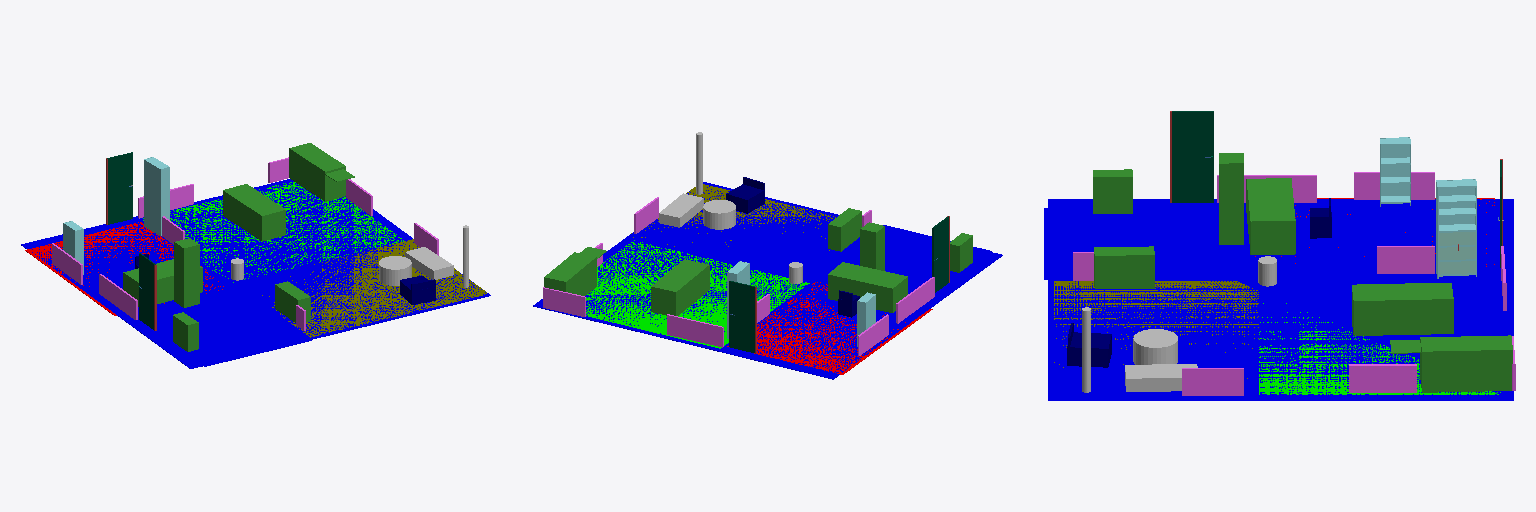
--- What the picture shows (computed from the rendered views, not written in the file) ---
3 views of the same robot in one strip: view 1: azimuth 30°, elevation 25°; view 2: azimuth 150°, elevation 25°; view 3: azimuth 270°, elevation 25° (orthographic).
Model iai-kitchen with 110 links and 109 joints (7 revolute, 102 fixed), rooted at urdf_main, posed all joints at 0.
Links seen in each view (by area): view 1: arena:arena:room_center_link, living_room:living_room:room_center_link, iai_kitchen:kitchen:room_center_link, dinner_table:dinner_table:table_center, kitchen_counter:kitchen_counter:table_center, coathanger:coathanger:coathanger_center, office:arena:door_center, office:office:room_center_link, desk:desk:table_center, shelf_hohc:kitchen_cabinet:shelf_back, iai_kitchen:arena:door_center, tv_table:tv_table:table_center (+9 smaller); view 2: arena:arena:room_center_link, iai_kitchen:kitchen:room_center_link, office:office:room_center_link, desk:desk:table_center, dinner_table:dinner_table:table_center, office:arena:door_center, kitchen_counter:kitchen_counter:table_center, wall_8_link, coathanger:coathanger:coathanger_center, tv_table:tv_table:table_center, iai_kitchen:arena:door_center, living_room:living_room:room_center_link (+9 smaller); view 3: arena:arena:room_center_link, dinner_table:dinner_table:table_center, kitchen_counter:kitchen_counter:table_center, iai_kitchen:arena:door_center, desk:desk:table_center, living_room:living_room:room_center_link, iai_kitchen:kitchen:room_center_link, tv_table:tv_table:table_center, coathanger:coathanger:coathanger_center, wall_2_link, hallway_cabinet:hallway_cabinet:table_center, wall_5_link (+15 smaller).
Link boxes in pixels (x1=…): arena:arena:room_center_link: x1=21, y1=179, x2=490, y2=368; living_room:living_room:room_center_link: x1=262, y1=239, x2=486, y2=337; iai_kitchen:kitchen:room_center_link: x1=143, y1=182, x2=403, y2=282; dinner_table:dinner_table:table_center: x1=223, y1=184, x2=285, y2=241; kitchen_counter:kitchen_counter:table_center: x1=289, y1=143, x2=345, y2=201; coathanger:coathanger:coathanger_center: x1=174, y1=238, x2=199, y2=307; office:arena:door_center: x1=107, y1=152, x2=132, y2=224; office:office:room_center_link: x1=25, y1=222, x2=223, y2=315; desk:desk:table_center: x1=123, y1=259, x2=202, y2=306; shelf_hohc:kitchen_cabinet:shelf_back: x1=144, y1=159, x2=160, y2=235; iai_kitchen:arena:door_center: x1=139, y1=253, x2=155, y2=329; tv_table:tv_table:table_center: x1=275, y1=281, x2=310, y2=322; arena:arena:room_center_link: x1=533, y1=182, x2=1002, y2=379; iai_kitchen:kitchen:room_center_link: x1=586, y1=240, x2=809, y2=348; office:office:room_center_link: x1=727, y1=282, x2=932, y2=374; desk:desk:table_center: x1=828, y1=262, x2=907, y2=312; dinner_table:dinner_table:table_center: x1=651, y1=259, x2=709, y2=315; office:arena:door_center: x1=729, y1=281, x2=754, y2=352; kitchen_counter:kitchen_counter:table_center: x1=544, y1=252, x2=596, y2=295; wall_8_link: x1=667, y1=314, x2=723, y2=347; coathanger:coathanger:coathanger_center: x1=860, y1=222, x2=884, y2=270; tv_table:tv_table:table_center: x1=828, y1=208, x2=861, y2=251; iai_kitchen:arena:door_center: x1=932, y1=216, x2=948, y2=292; living_room:living_room:room_center_link: x1=631, y1=184, x2=835, y2=250; arena:arena:room_center_link: x1=1048, y1=199, x2=1513, y2=400; dinner_table:dinner_table:table_center: x1=1352, y1=283, x2=1453, y2=335; kitchen_counter:kitchen_counter:table_center: x1=1420, y1=335, x2=1512, y2=392; iai_kitchen:arena:door_center: x1=1172, y1=111, x2=1213, y2=202; desk:desk:table_center: x1=1246, y1=178, x2=1295, y2=254; living_room:living_room:room_center_link: x1=1054, y1=281, x2=1258, y2=378; iai_kitchen:kitchen:room_center_link: x1=1259, y1=303, x2=1500, y2=394; tv_table:tv_table:table_center: x1=1094, y1=246, x2=1154, y2=288; coathanger:coathanger:coathanger_center: x1=1219, y1=153, x2=1243, y2=244; wall_2_link: x1=1349, y1=364, x2=1416, y2=392; hallway_cabinet:hallway_cabinet:table_center: x1=1093, y1=169, x2=1132, y2=213; wall_5_link: x1=1182, y1=368, x2=1243, y2=395.
Size in the robot's own frame: 9.59 by 9.4 by 2.1 metres.
Meshes: 3 distinct files referenced, 0 mesh visuals loaded (none loaded); not drawn: 3 (reference not matched to a file when rendering).

The robot description file, URDF, robot "iai-kitchen":
<?xml version="1.0" ?>
<robot name="iai-kitchen" version="1.0">
  <material name="table_grey">
    <color rgba="0.255 0.62 0.223 1.0"/>
  </material>
  <material name="round_table_grey">
    <color rgba="0.8 0.8 0.8 1.0"/>
  </material>
  <material name="wall_pink">
    <color rgba="0.95 0.43 0.96 1.0"/>
  </material>
  <material name="shelf_blue">
    <color rgba="0.59 0.88 0.9 1.0"/>
  </material>
  <material name="shelf_door_green">
    <color rgba="0.64 0.87 0.82 1.0"/>
  </material>
  <material name="shelf_openable_handle_red">
    <color rgba="0.74 0.25 0.25 1.0"/>
  </material>
  <material name="shelf_hohc_handle_red">
    <color rgba="0.74 0.25 0.25 1.0"/>
  </material>
  <material name="door_green">
    <color rgba="0.0 0.31 0.22 1.0"/>
  </material>
  <material name="hinge_red">
    <color rgba="0.74 0.25 0.25 1.0"/>
  </material>
  <material name="handle_blue">
    <color rgba="0.3 0.5 0.78 1.0"/>
  </material>
  <material name="bucket_grey">
    <color rgba="0.8 0.8 0.8 1.0"/>
  </material>
  <material name="white">
    <color rgba="1.0 1.0 1.0 1.0"/>
  </material>
  <material name="orange">
    <color rgba="1.0 0.7 0.0 1.0"/>
  </material>
  <material name="handle_white">
    <color rgba="1.0 1.0 1.0 1.0"/>
  </material>
  <material name="bottom_white">
    <color rgba="1.0 1.0 1.0 1.0"/>
  </material>
  <material name="frame_wood">
    <color rgba="0.68 0.63 0.47 1.0"/>
  </material>
  <material name="handle_grey">
    <color rgba="0.7 0.7 0.7 1.0"/>
  </material>
  <material name="dishwasher_table_color">
    <color rgba="0.255 0.62 0.223 1.0"/>
  </material>
  <material name="dishwasher_robocup_table_color">
    <color rgba="0.255 0.62 0.223 1.0"/>
  </material>
  <material name="color_grey">
    <color rgba="0.8 0.8 0.8 1.0"/>
  </material>
  <material name="color_red">
    <color rgba="1.0 0.0 0.0 1.0"/>
  </material>
  <material name="color_blue">
    <color rgba="0.0 0.0 1.0 1.0"/>
  </material>
  <material name="simple_couch_color_grey">
    <color rgba="0.8 0.8 0.8 1.0"/>
  </material>
  <material name="simple_couch_color_red">
    <color rgba="1.0 0.0 0.0 1.0"/>
  </material>
  <material name="simple_couch_color_blue">
    <color rgba="0.0 0.0 1.0 1.0"/>
  </material>
  <material name="trashcan_color">
    <color rgba="0.8 0.8 0.8 1.0"/>
  </material>
  <material name="chair_color">
    <color rgba="0.0 0.0 0.5 1.0"/>
  </material>
  <material name="coathanger_color">
    <color rgba="0.255 0.62 0.223 1.0"/>
  </material>
  <material name="lamp_color">
    <color rgba="0.8 0.8 0.8 1.0"/>
  </material>
  <link name="tv_table:tv_table:table_center">
    <inertial>
      <origin xyz="0.0 0.0 0.0" rpy="0.0 0.0 0.0"/>
      <mass value="1.0"/>
      <inertia ixx="0.1" ixy="0.0" ixz="0.0" iyy="0.1" iyz="0.0" izz="0.1"/>
    </inertial>
    <visual>
      <origin xyz="0.0 0.0 -0.369" rpy="0.0 0.0 0.0"/>
      <geometry>
        <box size="0.412 1.2 0.738"/>
      </geometry>
      <material name="table_grey"/>
    </visual>
    <collision>
      <origin xyz="0.0 0.0 -0.369" rpy="0.0 0.0 0.0"/>
      <geometry>
        <box size="0.412 1.2 0.738"/>
      </geometry>
    </collision>
  </link>
  <link name="tv_table:tv_table:table_origin"/>
  <link name="tv_table:tv_table:table_front_edge_center"/>
  <joint name="tv_table:tv_table:table_origin_joint" type="fixed">
    <origin xyz="5.96 -0.24 0.0" rpy="0.0 0.0 3.17"/>
    <parent link="urdf_offset"/>
    <child link="tv_table:tv_table:table_origin"/>
  </joint>
  <joint name="tv_table:tv_table:center_joint" type="fixed">
    <origin xyz="0.206 0.6 0.738" rpy="0.0 0.0 0.0"/>
    <parent link="tv_table:tv_table:table_origin"/>
    <child link="tv_table:tv_table:table_center"/>
  </joint>
  <joint name="tv_table:tv_table:table_front_edge_center_joint" type="fixed">
    <origin xyz="0.0 0.6 0.738" rpy="0.0 0.0 0.0"/>
    <parent link="tv_table:tv_table:table_origin"/>
    <child link="tv_table:tv_table:table_front_edge_center"/>
  </joint>
  <link name="hallway_cabinet:hallway_cabinet:table_center">
    <inertial>
      <origin xyz="0.0 0.0 0.0" rpy="0.0 0.0 0.0"/>
      <mass value="1.0"/>
      <inertia ixx="0.1" ixy="0.0" ixz="0.0" iyy="0.1" iyz="0.0" izz="0.1"/>
    </inertial>
    <visual>
      <origin xyz="0.0 0.0 -0.404" rpy="0.0 0.0 0.0"/>
      <geometry>
        <box size="0.3503 0.795 0.808"/>
      </geometry>
      <material name="table_grey"/>
    </visual>
    <collision>
      <origin xyz="0.0 0.0 -0.404" rpy="0.0 0.0 0.0"/>
      <geometry>
        <box size="0.3503 0.795 0.808"/>
      </geometry>
    </collision>
  </link>
  <link name="hallway_cabinet:hallway_cabinet:table_origin"/>
  <link name="hallway_cabinet:hallway_cabinet:table_front_edge_center"/>
  <joint name="hallway_cabinet:hallway_cabinet:table_origin_joint" type="fixed">
    <origin xyz="2.41 -0.675 0.0" rpy="0.0 0.0 3.17"/>
    <parent link="urdf_offset"/>
    <child link="hallway_cabinet:hallway_cabinet:table_origin"/>
  </joint>
  <joint name="hallway_cabinet:hallway_cabinet:center_joint" type="fixed">
    <origin xyz="0.17515 0.3975 0.808" rpy="0.0 0.0 0.0"/>
    <parent link="hallway_cabinet:hallway_cabinet:table_origin"/>
    <child link="hallway_cabinet:hallway_cabinet:table_center"/>
  </joint>
  <joint name="hallway_cabinet:hallway_cabinet:table_front_edge_center_joint" type="fixed">
    <origin xyz="0.0 0.3975 0.808" rpy="0.0 0.0 0.0"/>
    <parent link="hallway_cabinet:hallway_cabinet:table_origin"/>
    <child link="hallway_cabinet:hallway_cabinet:table_front_edge_center"/>
  </joint>
  <link name="desk:desk:table_center">
    <inertial>
      <origin xyz="0.0 0.0 0.0" rpy="0.0 0.0 0.0"/>
      <mass value="1.0"/>
      <inertia ixx="0.1" ixy="0.0" ixz="0.0" iyy="0.1" iyz="0.0" izz="0.1"/>
    </inertial>
    <visual>
      <origin xyz="0.0 0.0 -0.3715" rpy="0.0 0.0 0.0"/>
      <geometry>
        <box size="0.901 2.017 0.743"/>
      </geometry>
      <material name="table_grey"/>
    </visual>
    <collision>
      <origin xyz="0.0 0.0 -0.3715" rpy="0.0 0.0 0.0"/>
      <geometry>
        <box size="0.901 2.017 0.743"/>
      </geometry>
    </collision>
  </link>
  <link name="desk:desk:table_origin"/>
  <link name="desk:desk:table_front_edge_center"/>
  <joint name="desk:desk:table_origin_joint" type="fixed">
    <origin xyz="2.33 2.49 0.0" rpy="0.0 0.0 -1.53"/>
    <parent link="urdf_offset"/>
    <child link="desk:desk:table_origin"/>
  </joint>
  <joint name="desk:desk:center_joint" type="fixed">
    <origin xyz="0.4505 1.0085 0.743" rpy="0.0 0.0 0.0"/>
    <parent link="desk:desk:table_origin"/>
    <child link="desk:desk:table_center"/>
  </joint>
  <joint name="desk:desk:table_front_edge_center_joint" type="fixed">
    <origin xyz="0.0 1.0085 0.743" rpy="0.0 0.0 0.0"/>
    <parent link="desk:desk:table_origin"/>
    <child link="desk:desk:table_front_edge_center"/>
  </joint>
  <link name="dinner_table:dinner_table:table_center">
    <inertial>
      <origin xyz="0.0 0.0 0.0" rpy="0.0 0.0 0.0"/>
      <mass value="1.0"/>
      <inertia ixx="0.1" ixy="0.0" ixz="0.0" iyy="0.1" iyz="0.0" izz="0.1"/>
    </inertial>
    <visual>
      <origin xyz="0.0 0.0 -0.385" rpy="0.0 0.0 0.0"/>
      <geometry>
        <box size="0.782 2.0 0.77"/>
      </geometry>
      <material name="table_grey"/>
    </visual>
    <collision>
      <origin xyz="0.0 0.0 -0.385" rpy="0.0 0.0 0.0"/>
      <geometry>
        <box size="0.782 2.0 0.77"/>
      </geometry>
    </collision>
  </link>
  <link name="dinner_table:dinner_table:table_origin"/>
  <link name="dinner_table:dinner_table:table_front_edge_center"/>
  <joint name="dinner_table:dinner_table:table_origin_joint" type="fixed">
    <origin xyz="7.42 3.69 0.0" rpy="0.0 0.0 0.05"/>
    <parent link="urdf_offset"/>
    <child link="dinner_table:dinner_table:table_origin"/>
  </joint>
  <joint name="dinner_table:dinner_table:center_joint" type="fixed">
    <origin xyz="0.391 1.0 0.77" rpy="0.0 0.0 0.0"/>
    <parent link="dinner_table:dinner_table:table_origin"/>
    <child link="dinner_table:dinner_table:table_center"/>
  </joint>
  <joint name="dinner_table:dinner_table:table_front_edge_center_joint" type="fixed">
    <origin xyz="0.0 1.0 0.77" rpy="0.0 0.0 0.0"/>
    <parent link="dinner_table:dinner_table:table_origin"/>
    <child link="dinner_table:dinner_table:table_front_edge_center"/>
  </joint>
  <link name="kitchen_counter:kitchen_counter:table_center">
    <inertial>
      <origin xyz="0.0 0.0 0.0" rpy="0.0 0.0 0.0"/>
      <mass value="1.0"/>
      <inertia ixx="0.1" ixy="0.0" ixz="0.0" iyy="0.1" iyz="0.0" izz="0.1"/>
    </inertial>
    <visual>
      <origin xyz="0.0 0.0 -0.4525" rpy="0.0 0.0 0.0"/>
      <geometry>
        <box size="0.68 1.82 0.905"/>
      </geometry>
      <material name="table_grey"/>
    </visual>
    <collision>
      <origin xyz="0.0 0.0 -0.4525" rpy="0.0 0.0 0.0"/>
      <geometry>
        <box size="0.68 1.82 0.905"/>
      </geometry>
    </collision>
  </link>
  <link name="kitchen_counter:kitchen_counter:table_origin"/>
  <link name="kitchen_counter:kitchen_counter:table_front_edge_center"/>
  <joint name="kitchen_counter:kitchen_counter:table_origin_joint" type="fixed">
    <origin xyz="10.2 5.06 0.0" rpy="0.0 0.0 0.05"/>
    <parent link="urdf_offset"/>
    <child link="kitchen_counter:kitchen_counter:table_origin"/>
  </joint>
  <joint name="kitchen_counter:kitchen_counter:center_joint" type="fixed">
    <origin xyz="0.34 0.91 0.905" rpy="0.0 0.0 0.0"/>
    <parent link="kitchen_counter:kitchen_counter:table_origin"/>
    <child link="kitchen_counter:kitchen_counter:table_center"/>
  </joint>
  <joint name="kitchen_counter:kitchen_counter:table_front_edge_center_joint" type="fixed">
    <origin xyz="0.0 0.91 0.905" rpy="0.0 0.0 0.0"/>
    <parent link="kitchen_counter:kitchen_counter:table_origin"/>
    <child link="kitchen_counter:kitchen_counter:table_front_edge_center"/>
  </joint>
  <link name="suturo_couch:couch:place_one">
    <inertial>
      <origin xyz="0.0 0.0 0.0" rpy="0.0 0.0 0.0"/>
      <mass value="1.0"/>
      <inertia ixx="0.1" ixy="0.0" ixz="0.0" iyy="0.1" iyz="0.0" izz="0.1"/>
    </inertial>
    <visual>
      <origin xyz="0.0 0.0 0.15" rpy="0.0 0.0 0.0"/>
      <geometry>
        <box size="0.65 1.45 0.3"/>
      </geometry>
      <material name="color_grey"/>
    </visual>
    <collision>
      <origin xyz="0.0 0.0 0.0" rpy="0.0 0.0 0.0"/>
      <geometry>
        <box size="0.65 1.45 0.3"/>
      </geometry>
    </collision>
  </link>
  <link name="suturo_couch:couch:place_two">
    <inertial>
      <origin xyz="0.0 0.0 0.0" rpy="0.0 0.0 0.0"/>
      <mass value="1.0"/>
      <inertia ixx="0.1" ixy="0.0" ixz="0.0" iyy="0.1" iyz="0.0" izz="0.1"/>
    </inertial>
  </link>
  <link name="suturo_couch:couch:place_three">
    <inertial>
      <origin xyz="0.0 0.0 0.0" rpy="0.0 0.0 0.0"/>
      <mass value="1.0"/>
      <inertia ixx="0.1" ixy="0.0" ixz="0.0" iyy="0.1" iyz="0.0" izz="0.1"/>
    </inertial>
  </link>
  <joint name="suturo_couch:couch:couch_origin_joint" type="fixed">
    <origin xyz="10.5 -0.1 0.0" rpy="0.0 0.0 0.05"/>
    <parent link="urdf_offset"/>
    <child link="suturo_couch:couch:place_one"/>
  </joint>
  <joint name="suturo_couch:couch:couch_left_joint" type="fixed">
    <origin xyz="0.0 -0.3625 0.15" rpy="0.0 0.0 0.0"/>
    <parent link="suturo_couch:couch:place_one"/>
    <child link="suturo_couch:couch:place_two"/>
  </joint>
  <joint name="suturo_couch:couch:couch_right_joint" type="fixed">
    <origin xyz="0.0 0.3625 0.15" rpy="0.0 0.0 0.0"/>
    <parent link="suturo_couch:couch:place_one"/>
    <child link="suturo_couch:couch:place_three"/>
  </joint>
  <link name="coffee_table:coffee_table:table_center">
    <inertial>
      <origin xyz="0.0 0.0 0.0" rpy="0.0 0.0 0.0"/>
      <mass value="1.0"/>
      <inertia ixx="0.1" ixy="0.0" ixz="0.0" iyy="0.1" iyz="0.0" izz="0.1"/>
    </inertial>
    <visual>
      <origin xyz="0.0 0.0 -0.245" rpy="0.0 0.0 0.0"/>
      <geometry>
        <cylinder radius="0.45" length="0.49"/>
      </geometry>
      <material name="round_table_grey"/>
    </visual>
    <collision>
      <origin xyz="0.0 0.0 -0.245" rpy="0.0 0.0 0.0"/>
      <geometry>
        <cylinder radius="0.45" length="0.49"/>
      </geometry>
    </collision>
  </link>
  <link name="coffee_table:coffee_table:table_origin"/>
  <link name="coffee_table:coffee_table:table_front_edge_center"/>
  <joint name="coffee_table:coffee_table:table_origin_joint" type="fixed">
    <origin xyz="8.91 -0.24 0.0" rpy="0.0 0.0 0.05"/>
    <parent link="urdf_offset"/>
    <child link="coffee_table:coffee_table:table_origin"/>
  </joint>
  <joint name="coffee_table:coffee_table:center_joint" type="fixed">
    <origin xyz="0.45 0.0 0.49" rpy="0.0 0.0 0.0"/>
    <parent link="coffee_table:coffee_table:table_origin"/>
    <child link="coffee_table:coffee_table:table_center"/>
  </joint>
  <joint name="coffee_table:coffee_table:table_front_edge_center_joint" type="fixed">
    <origin xyz="0.0 0.0 0.49" rpy="0.0 0.0 0.0"/>
    <parent link="coffee_table:coffee_table:table_origin"/>
    <child link="coffee_table:coffee_table:table_front_edge_center"/>
  </joint>
  <link name="shelf:shelf:shelf_origin"/>
  <link name="shelf:shelf:shelf_center"/>
  <link name="shelf:shelf:shelf_base_center"/>
  <joint name="shelf:shelf:shelf_origin_joint" type="fixed">
    <origin xyz="2.09 4.87 0.0" rpy="0.0 0.0 3.2"/>
    <parent link="urdf_offset"/>
    <child link="shelf:shelf:shelf_origin"/>
  </joint>
  <joint name="shelf:shelf:shelf_center_joint" type="fixed">
    <origin xyz="0.1375 0.3 0.7" rpy="0.0 0.0 0.0"/>
    <parent link="shelf:shelf:shelf_origin"/>
    <child link="shelf:shelf:shelf_center"/>
  </joint>
  <joint name="shelf:shelf:shelf_base_center_joint" type="fixed">
    <origin xyz="0.1375 0.3 0.0" rpy="0.0 0.0 0.0"/>
    <parent link="shelf:shelf:shelf_origin"/>
    <child link="shelf:shelf:shelf_base_center"/>
  </joint>
  <link name="shelf:shelf:shelf_back">
    <inertial>
      <origin xyz="0.0 0.0 0.0" rpy="0.0 0.0 0.0"/>
      <mass value="1.0"/>
      <inertia ixx="0.1" ixy="0.0" ixz="0.0" iyy="0.1" iyz="0.0" izz="0.1"/>
    </inertial>
    <visual>
      <origin xyz="0.0 0.0 0.0" rpy="0.0 0.0 0.0"/>
      <geometry>
        <box size="0.01 0.6 1.4"/>
      </geometry>
      <material name="shelf_blue"/>
    </visual>
    <collision>
      <origin xyz="0.0 0.0 0.0" rpy="0.0 0.0 0.0"/>
      <geometry>
        <box size="0.01 0.6 1.4"/>
      </geometry>
    </collision>
  </link>
  <joint name="shelf:shelf:shelf_back:joint" type="fixed">
    <origin xyz="0.275 0.3 0.7" rpy="0.0 0.0 0.0"/>
    <parent link="shelf:shelf:shelf_origin"/>
    <child link="shelf:shelf:shelf_back"/>
  </joint>
  <link name="shelf:shelf:shelf_right_side">
    <inertial>
      <origin xyz="0.0 0.0 0.0" rpy="0.0 0.0 0.0"/>
      <mass value="1.0"/>
      <inertia ixx="0.1" ixy="0.0" ixz="0.0" iyy="0.1" iyz="0.0" izz="0.1"/>
    </inertial>
    <visual>
      <origin xyz="0.0 0.0 0.0" rpy="0.0 0.0 0.0"/>
      <geometry>
        <box size="0.275 0.01 1.4"/>
      </geometry>
      <material name="shelf_blue"/>
    </visual>
    <collision>
      <origin xyz="0.0 0.0 0.0" rpy="0.0 0.0 0.0"/>
      <geometry>
        <box size="0.275 0.01 1.4"/>
      </geometry>
    </collision>
  </link>
  <joint name="shelf:shelf:shelf_right_side:joint" type="fixed">
    <origin xyz="0.1375 0.0 0.7" rpy="0.0 0.0 0.0"/>
    <parent link="shelf:shelf:shelf_origin"/>
    <child link="shelf:shelf:shelf_right_side"/>
  </joint>
  <link name="shelf:shelf:shelf_left_side">
    <inertial>
      <origin xyz="0.0 0.0 0.0" rpy="0.0 0.0 0.0"/>
      <mass value="1.0"/>
      <inertia ixx="0.1" ixy="0.0" ixz="0.0" iyy="0.1" iyz="0.0" izz="0.1"/>
    </inertial>
    <visual>
      <origin xyz="0.0 0.0 0.0" rpy="0.0 0.0 0.0"/>
      <geometry>
        <box size="0.275 0.01 1.4"/>
      </geometry>
      <material name="shelf_blue"/>
    </visual>
    <collision>
      <origin xyz="0.0 0.0 0.0" rpy="0.0 0.0 0.0"/>
      <geometry>
        <box size="0.275 0.01 1.4"/>
      </geometry>
    </collision>
  </link>
  <joint name="shelf:shelf:shelf_left_side:joint" type="fixed">
    <origin xyz="0.1375 0.6 0.7" rpy="0.0 0.0 0.0"/>
    <parent link="shelf:shelf:shelf_origin"/>
    <child link="shelf:shelf:shelf_left_side"/>
  </joint>
  <link name="shelf:shelf:shelf_floor_0">
    <inertial>
      <origin xyz="0.0 0.0 0.0" rpy="0.0 0.0 0.0"/>
      <mass value="1.0"/>
      <inertia ixx="0.1" ixy="0.0" ixz="0.0" iyy="0.1" iyz="0.0" izz="0.1"/>
    </inertial>
    <visual>
      <origin xyz="0.0 0.0 -0.02" rpy="0.0 0.0 0.0"/>
      <geometry>
        <box size="0.275 0.6 0.04"/>
      </geometry>
      <material name="shelf_blue"/>
    </visual>
    <collision>
      <origin xyz="0.0 0.0 -0.02" rpy="0.0 0.0 0.0"/>
      <geometry>
        <box size="0.275 0.6 0.04"/>
      </geometry>
    </collision>
  </link>
  <joint name="shelf:shelf:shelf_floor_0:joint" type="fixed">
    <origin xyz="0.0 0.0 0.115" rpy="0.0 0.0 0.0"/>
    <parent link="shelf:shelf:shelf_base_center"/>
    <child link="shelf:shelf:shelf_floor_0"/>
  </joint>
  <link name="shelf:shelf:shelf_floor_1">
    <inertial>
      <origin xyz="0.0 0.0 0.0" rpy="0.0 0.0 0.0"/>
      <mass value="1.0"/>
      <inertia ixx="0.1" ixy="0.0" ixz="0.0" iyy="0.1" iyz="0.0" izz="0.1"/>
    </inertial>
    <visual>
      <origin xyz="0.0 0.0 -0.02" rpy="0.0 0.0 0.0"/>
      <geometry>
        <box size="0.275 0.6 0.04"/>
      </geometry>
      <material name="shelf_blue"/>
    </visual>
    <collision>
      <origin xyz="0.0 0.0 -0.02" rpy="0.0 0.0 0.0"/>
      <geometry>
        <box size="0.275 0.6 0.04"/>
      </geometry>
    </collision>
  </link>
  <joint name="shelf:shelf:shelf_floor_1:joint" type="fixed">
    <origin xyz="0.0 0.0 0.54" rpy="0.0 0.0 0.0"/>
    <parent link="shelf:shelf:shelf_base_center"/>
    <child link="shelf:shelf:shelf_floor_1"/>
  </joint>
  <link name="shelf:shelf:shelf_floor_2">
    <inertial>
      <origin xyz="0.0 0.0 0.0" rpy="0.0 0.0 0.0"/>
      <mass value="1.0"/>
      <inertia ixx="0.1" ixy="0.0" ixz="0.0" iyy="0.1" iyz="0.0" izz="0.1"/>
    </inertial>
    <visual>
      <origin xyz="0.0 0.0 -0.02" rpy="0.0 0.0 0.0"/>
      <geometry>
        <box size="0.275 0.6 0.04"/>
      </geometry>
      <material name="shelf_blue"/>
    </visual>
    <collision>
      <origin xyz="0.0 0.0 -0.02" rpy="0.0 0.0 0.0"/>
      <geometry>
        <box size="0.275 0.6 0.04"/>
      </geometry>
    </collision>
  </link>
  <joint name="shelf:shelf:shelf_floor_2:joint" type="fixed">
    <origin xyz="0.0 0.0 0.96" rpy="0.0 0.0 0.0"/>
    <parent link="shelf:shelf:shelf_base_center"/>
    <child link="shelf:shelf:shelf_floor_2"/>
  </joint>
  <link name="shelf:shelf:shelf_floor_3">
    <inertial>
      <origin xyz="0.0 0.0 0.0" rpy="0.0 0.0 0.0"/>
      <mass value="1.0"/>
      <inertia ixx="0.1" ixy="0.0" ixz="0.0" iyy="0.1" iyz="0.0" izz="0.1"/>
    </inertial>
    <visual>
      <origin xyz="0.0 0.0 -0.02" rpy="0.0 0.0 0.0"/>
      <geometry>
        <box size="0.275 0.6 0.04"/>
      </geometry>
      <material name="shelf_blue"/>
    </visual>
    <collision>
      <origin xyz="0.0 0.0 -0.02" rpy="0.0 0.0 0.0"/>
      <geometry>
        <box size="0.275 0.6 0.04"/>
      </geometry>
    </collision>
  </link>
  <joint name="shelf:shelf:shelf_floor_3:joint" type="fixed">
    <origin xyz="0.0 0.0 1.39" rpy="0.0 0.0 0.0"/>
    <parent link="shelf:shelf:shelf_base_center"/>
    <child link="shelf:shelf:shelf_floor_3"/>
  </joint>
  <joint name="wall_1_center_joint" type="fixed">
    <origin xyz="10.14 6.91 0.3" rpy="0 0 0"/>
    <parent link="urdf_offset"/>
    <child link="wall_1_link"/>
  </joint>
  <link name="wall_1_link">
    <inertial>
      <origin xyz="0.0 0.0 0.0" rpy="0.0 0.0 0.0"/>
      <mass value="1.0"/>
      <inertia ixx="0.1" ixy="0.0" ixz="0.0" iyy="0.1" iyz="0.0" izz="0.1"/>
    </inertial>
    <visual>
      <origin xyz="0.0 0.0 0.0" rpy="0.0 0.0 0.03029375991877435"/>
      <geometry>
        <box size="1.3206059215375345 0.06 0.6"/>
      </geometry>
      <material name="wall_pink"/>
    </visual>
    <collision>
      <origin xyz="0.0 0.0 0.0" rpy="0.0 0.0 0.03029375991877435"/>
      <geometry>
        <box size="1.3206059215375345 0.06 0.6"/>
      </geometry>
    </collision>
  </link>
  <joint name="wall_2_center_joint" type="fixed">
    <origin xyz="10.85 4.3149999999999995 0.3" rpy="0 0 0"/>
    <parent link="urdf_offset"/>
    <child link="wall_2_link"/>
  </joint>
  <link name="wall_2_link">
    <inertial>
      <origin xyz="0.0 0.0 0.0" rpy="0.0 0.0 0.0"/>
      <mass value="1.0"/>
      <inertia ixx="0.1" ixy="0.0" ixz="0.0" iyy="0.1" iyz="0.0" izz="0.1"/>
    </inertial>
    <visual>
      <origin xyz="0.0 0.0 0.0" rpy="0.0 0.0 1.5707963267948966"/>
      <geometry>
        <box size="1.37 0.06 0.6"/>
      </geometry>
      <material name="wall_pink"/>
    </visual>
    <collision>
      <origin xyz="0.0 0.0 0.0" rpy="0.0 0.0 1.5707963267948966"/>
      <geometry>
        <box size="1.37 0.06 0.6"/>
      </geometry>
    </collision>
  </link>
  <joint name="wall_3_center_joint" type="fixed">
    <origin xyz="1.76 4.545 0.3" rpy="0 0 0"/>
    <parent link="urdf_offset"/>
    <child link="wall_3_link"/>
  </joint>
  <link name="wall_3_link">
    <inertial>
      <origin xyz="0.0 0.0 0.0" rpy="0.0 0.0 0.0"/>
      <mass value="1.0"/>
      <inertia ixx="0.1" ixy="0.0" ixz="0.0" iyy="0.1" iyz="0.0" izz="0.1"/>
    </inertial>
    <visual>
      <origin xyz="0.0 0.0 0.0" rpy="0.0 0.0 1.5707963267948966"/>
      <geometry>
        <box size="1.6300000000000003 0.06 0.6"/>
      </geometry>
      <material name="wall_pink"/>
    </visual>
    <collision>
      <origin xyz="0.0 0.0 0.0" rpy="0.0 0.0 1.5707963267948966"/>
      <geometry>
        <box size="1.6300000000000003 0.06 0.6"/>
      </geometry>
    </collision>
  </link>
  <joint name="wall_4_center_joint" type="fixed">
    <origin xyz="5.55 -1.665 0.3" rpy="0 0 0"/>
    <parent link="urdf_offset"/>
    <child link="wall_4_link"/>
  </joint>
  <link name="wall_4_link">
    <inertial>
      <origin xyz="0.0 0.0 0.0" rpy="0.0 0.0 0.0"/>
      <mass value="1.0"/>
      <inertia ixx="0.1" ixy="0.0" ixz="0.0" iyy="0.1" iyz="0.0" izz="0.1"/>
    </inertial>
    <visual>
      <origin xyz="0.0 0.0 0.0" rpy="0.0 0.0 1.5707963267948966"/>
      <geometry>
        <box size="0.42999999999999994 0.06 0.6"/>
      </geometry>
      <material name="wall_pink"/>
    </visual>
    <collision>
      <origin xyz="0.0 0.0 0.0" rpy="0.0 0.0 1.5707963267948966"/>
      <geometry>
        <box size="0.42999999999999994 0.06 0.6"/>
      </geometry>
    </collision>
  </link>
  <joint name="wall_5_center_joint" type="fixed">
    <origin xyz="11.0 0.925 0.3" rpy="0 0 0"/>
    <parent link="urdf_offset"/>
    <child link="wall_5_link"/>
  </joint>
  <link name="wall_5_link">
    <inertial>
      <origin xyz="0.0 0.0 0.0" rpy="0.0 0.0 0.0"/>
      <mass value="1.0"/>
      <inertia ixx="0.1" ixy="0.0" ixz="0.0" iyy="0.1" iyz="0.0" izz="0.1"/>
    </inertial>
    <visual>
      <origin xyz="0.0 0.0 0.0" rpy="0.0 0.0 1.5707963267948966"/>
      <geometry>
        <box size="1.25 0.06 0.6"/>
      </geometry>
      <material name="wall_pink"/>
    </visual>
    <collision>
      <origin xyz="0.0 0.0 0.0" rpy="0.0 0.0 1.5707963267948966"/>
      <geometry>
        <box size="1.25 0.06 0.6"/>
      </geometry>
    </collision>
  </link>
  <joint name="wall_6_center_joint" type="fixed">
    <origin xyz="1.9 2.0 0.3" rpy="0 0 0"/>
    <parent link="urdf_offset"/>
    <child link="wall_6_link"/>
  </joint>
  <link name="wall_6_link">
    <inertial>
      <origin xyz="0.0 0.0 0.0" rpy="0.0 0.0 0.0"/>
      <mass value="1.0"/>
      <inertia ixx="0.1" ixy="0.0" ixz="0.0" iyy="0.1" iyz="0.0" izz="0.1"/>
    </inertial>
    <visual>
      <origin xyz="0.0 0.0 0.0" rpy="0.0 0.0 1.5707963267948966"/>
      <geometry>
        <box size="2.0 0.06 0.6"/>
      </geometry>
      <material name="wall_pink"/>
    </visual>
    <collision>
      <origin xyz="0.0 0.0 0.0" rpy="0.0 0.0 1.5707963267948966"/>
      <geometry>
        <box size="2.0 0.06 0.6"/>
      </geometry>
    </collision>
  </link>
  <joint name="wall_7_center_joint" type="fixed">
    <origin xyz="5.25 4.775 0.3" rpy="0 0 0"/>
    <parent link="urdf_offset"/>
    <child link="wall_7_link"/>
  </joint>
  <link name="wall_7_link">
    <inertial>
      <origin xyz="0.0 0.0 0.0" rpy="0.0 0.0 0.0"/>
      <mass value="1.0"/>
      <inertia ixx="0.1" ixy="0.0" ixz="0.0" iyy="0.1" iyz="0.0" izz="0.1"/>
    </inertial>
    <visual>
      <origin xyz="0.0 0.0 0.0" rpy="0.0 0.0 1.5707963267948966"/>
      <geometry>
        <box size="1.1499999999999995 0.06 0.6"/>
      </geometry>
      <material name="wall_pink"/>
    </visual>
    <collision>
      <origin xyz="0.0 0.0 0.0" rpy="0.0 0.0 1.5707963267948966"/>
      <geometry>
        <box size="1.1499999999999995 0.06 0.6"/>
      </geometry>
    </collision>
  </link>
  <joint name="wall_8_center_joint" type="fixed">
    <origin xyz="6.125 6.725 0.3" rpy="0 0 0"/>
    <parent link="urdf_offset"/>
    <child link="wall_8_link"/>
  </joint>
  <link name="wall_8_link">
    <inertial>
      <origin xyz="0.0 0.0 0.0" rpy="0.0 0.0 0.0"/>
      <mass value="1.0"/>
      <inertia ixx="0.1" ixy="0.0" ixz="0.0" iyy="0.1" iyz="0.0" izz="0.1"/>
    </inertial>
    <visual>
      <origin xyz="0.0 0.0 0.0" rpy="0.0 0.0 0.02856365783875954"/>
      <geometry>
        <box size="1.7507141400011597 0.06 0.6"/>
      </geometry>
      <material name="wall_pink"/>
    </visual>
    <collision>
      <origin xyz="0.0 0.0 0.0" rpy="0.0 0.0 0.02856365783875954"/>
      <geometry>
        <box size="1.7507141400011597 0.06 0.6"/>
      </geometry>
    </collision>
  </link>
  <joint name="world_hallway:hallway:room_joint" type="fixed">
    <origin xyz="3.75 -0.446 -0.05" rpy="0.0 0.0 0.0"/>
    <parent link="urdf_offset"/>
    <child link="hallway:hallway:room_center_link"/>
  </joint>
  <link name="hallway:hallway:room_center_link">
    <inertial>
      <origin xyz="0.0 0.0 0.0" rpy="0.0 0.0 0.0"/>
      <mass value="1.0"/>
      <inertia ixx="0.1" ixy="0.0" ixz="0.0" iyy="0.1" iyz="0.0" izz="0.1"/>
    </inertial>
    <visual>
      <geometry>
        <box size="3.39 3.99 0.01"/>
      </geometry>
      <material name="hallway:hallway:color">
        <color rgba="0.0 0.0 1.0 0.1"/>
      </material>
    </visual>
    <collision>
      <geometry>
        <box size="3.39 3.99 0.01"/>
      </geometry>
    </collision>
  </link>
  <joint name="room_hallway_entry:entry:connection_joint" type="fixed">
    <origin xyz="-1.3399999999999999 0.946 0.0" rpy="0.0 0.0 0.0"/>
    <parent link="hallway:hallway:room_center_link"/>
    <child link="hallway_entry:entry:link"/>
  </joint>
  <link name="hallway_entry:entry:link"/>
  <joint name="room_hallway_living_room_exit:exit:connection_joint" type="fixed">
    <origin xyz="1.7800000000000002 0.666 0.0" rpy="0.0 0.0 0.0"/>
    <parent link="hallway:hallway:room_center_link"/>
    <child link="hallway_living_room_exit:exit:link"/>
  </joint>
  <link name="hallway_living_room_exit:exit:link"/>
  <joint name="room_hallway_office_exit:exit:connection_joint" type="fixed">
    <origin xyz="1.17 2.106 0.0" rpy="0.0 0.0 0.0"/>
    <parent link="hallway:hallway:room_center_link"/>
    <child link="hallway_office_exit:exit:link"/>
  </joint>
  <link name="hallway_office_exit:exit:link"/>
  <joint name="world_living_room:living_room:room_joint" type="fixed">
    <origin xyz="8.33 -0.2 -0.05" rpy="0.0 0.0 0.0"/>
    <parent link="urdf_offset"/>
    <child link="living_room:living_room:room_center_link"/>
  </joint>
  <link name="living_room:living_room:room_center_link">
    <inertial>
      <origin xyz="0.0 0.0 0.0" rpy="0.0 0.0 0.0"/>
      <mass value="1.0"/>
      <inertia ixx="0.1" ixy="0.0" ixz="0.0" iyy="0.1" iyz="0.0" izz="0.1"/>
    </inertial>
    <visual>
      <geometry>
        <box size="5.65 4.1 0.01"/>
      </geometry>
      <material name="living_room:living_room:color">
        <color rgba="0.5 0.5 0.0 0.1"/>
      </material>
    </visual>
    <collision>
      <geometry>
        <box size="5.65 4.1 0.01"/>
      </geometry>
    </collision>
  </link>
  <joint name="room_living_room_hallway_entry_exit:entry_exit:connection_joint" type="fixed">
    <origin xyz="-2.8 0.42000000000000004 0.0" rpy="0.0 0.0 0.0"/>
    <parent link="living_room:living_room:room_center_link"/>
    <child link="living_room_hallway_entry_exit:entry_exit:link"/>
  </joint>
  <link name="living_room_hallway_entry_exit:entry_exit:link"/>
  <joint name="room_living_room_kitchen_entry_exit:entry_exit:connection_joint" type="fixed">
    <origin xyz="0.4800000000000004 2.1 0.0" rpy="0.0 0.0 0.0"/>
    <parent link="living_room:living_room:room_center_link"/>
    <child link="living_room_kitchen_entry_exit:entry_exit:link"/>
  </joint>
  <link name="living_room_kitchen_entry_exit:entry_exit:link"/>
  <joint name="world_iai_kitchen:kitchen:room_joint" type="fixed">
    <origin xyz="8.1 4.3 -0.05" rpy="0.0 0.0 0.0"/>
    <parent link="urdf_offset"/>
    <child link="iai_kitchen:kitchen:room_center_link"/>
  </joint>
  <link name="iai_kitchen:kitchen:room_center_link">
    <inertial>
      <origin xyz="0.0 0.0 0.0" rpy="0.0 0.0 0.0"/>
      <mass value="1.0"/>
      <inertia ixx="0.1" ixy="0.0" ixz="0.0" iyy="0.1" iyz="0.0" izz="0.1"/>
    </inertial>
    <visual>
      <geometry>
        <box size="5.57 4.9 0.01"/>
      </geometry>
      <material name="iai_kitchen:kitchen:color">
        <color rgba="0.0 1.0 0.0 0.1"/>
      </material>
    </visual>
    <collision>
      <geometry>
        <box size="5.57 4.9 0.01"/>
      </geometry>
    </collision>
  </link>
  <joint name="room_kitchen_living_room_entry_exit:entry_exit:connection_joint" type="fixed">
    <origin xyz="0.7100000000000009 -4.08 0.0" rpy="0.0 0.0 0.0"/>
    <parent link="iai_kitchen:kitchen:room_center_link"/>
    <child link="kitchen_living_room_entry_exit:entry_exit:link"/>
  </joint>
  <link name="kitchen_living_room_entry_exit:entry_exit:link"/>
  <joint name="room_kitchen_office_entry_exit:entry_exit:connection_joint" type="fixed">
    <origin xyz="-2.76 -0.7199999999999998 0.0" rpy="0.0 0.0 0.0"/>
    <parent link="iai_kitchen:kitchen:room_center_link"/>
    <child link="kitchen_office_entry_exit:entry_exit:link"/>
  </joint>
  <link name="kitchen_office_entry_exit:entry_exit:link"/>
  <joint name="world_office:office:room_joint" type="fixed">
    <origin xyz="3.4 4.09 -0.05" rpy="0.0 0.0 0.0"/>
    <parent link="urdf_offset"/>
    <child link="office:office:room_center_link"/>
  </joint>
  <link name="office:office:room_center_link">
    <inertial>
      <origin xyz="0.0 0.0 0.0" rpy="0.0 0.0 0.0"/>
      <mass value="1.0"/>
      <inertia ixx="0.1" ixy="0.0" ixz="0.0" iyy="0.1" iyz="0.0" izz="0.1"/>
    </inertial>
    <visual>
      <geometry>
        <box size="3.66 4.92 0.01"/>
      </geometry>
      <material name="office:office:color">
        <color rgba="1.0 0.0 0.0 0.1"/>
      </material>
    </visual>
    <collision>
      <geometry>
        <box size="3.66 4.92 0.01"/>
      </geometry>
    </collision>
  </link>
  <joint name="room_office_living_room_entry_exit:entry_exit:connection_joint" type="fixed">
    <origin xyz="1.94 -0.5099999999999998 0.0" rpy="0.0 0.0 0.0"/>
    <parent link="office:office:room_center_link"/>
    <child link="office_living_room_entry_exit:entry_exit:link"/>
  </joint>
  <link name="office_living_room_entry_exit:entry_exit:link"/>
  <joint name="room_office_hallway_entry_exit:exit:connection_joint" type="fixed">
    <origin xyz="1.52 -2.4299999999999997 0.0" rpy="0.0 0.0 0.0"/>
    <parent link="office:office:room_center_link"/>
    <child link="office_hallway_entry_exit:exit:link"/>
  </joint>
  <link name="office_hallway_entry_exit:exit:link"/>
  <joint name="room_office_exit:exit:connection_joint" type="fixed">
    <origin xyz="1.3199999999999998 3.38 0.0" rpy="0.0 0.0 0.0"/>
    <parent link="office:office:room_center_link"/>
    <child link="office_exit:exit:link"/>
  </joint>
  <link name="office_exit:exit:link"/>
  <joint name="world_arena:arena:room_joint" type="fixed">
    <origin xyz="6.4 2.27 -0.05" rpy="0.0 0.0 0.0"/>
    <parent link="urdf_offset"/>
    <child link="arena:arena:room_center_link"/>
  </joint>
  <link name="arena:arena:room_center_link">
    <inertial>
      <origin xyz="0.0 0.0 0.0" rpy="0.0 0.0 0.0"/>
      <mass value="1.0"/>
      <inertia ixx="0.1" ixy="0.0" ixz="0.0" iyy="0.1" iyz="0.0" izz="0.1"/>
    </inertial>
    <visual>
      <geometry>
        <box size="9.5 9.3 0.01"/>
      </geometry>
      <material name="arena:arena:color">
        <color rgba="0.0 0.0 1.0 0.1"/>
      </material>
    </visual>
    <collision>
      <geometry>
        <box size="9.5 9.3 0.01"/>
      </geometry>
    </collision>
  </link>
  <joint name="room_arena_entry:entry:connection_joint" type="fixed">
    <origin xyz="-3.99 -1.77 0.0" rpy="0.0 0.0 0.0"/>
    <parent link="arena:arena:room_center_link"/>
    <child link="arena_entry:entry:link"/>
  </joint>
  <link name="arena_entry:entry:link"/>
  <joint name="room_arena_exit:exit:connection_joint" type="fixed">
    <origin xyz="-1.6800000000000006 5.199999999999999 0.0" rpy="0.0 0.0 0.0"/>
    <parent link="arena:arena:room_center_link"/>
    <child link="arena_exit:exit:link"/>
  </joint>
  <link name="arena_exit:exit:link"/>
  <link name="iai_kitchen:arena:door_center">
    <inertial>
      <origin xyz="0.0 0.0 0.0" rpy="0.0 0.0 0.0"/>
      <mass value="1.0"/>
      <inertia ixx="0.1" ixy="0.0" ixz="0.0" iyy="0.1" iyz="0.0" izz="0.1"/>
    </inertial>
    <visual>
      <origin xyz="0.4275 0.0 0.0" rpy="0.0 0.0 0.0"/>
      <geometry>
        <box size="0.855 0.038 2.0"/>
      </geometry>
      <material name="door_green"/>
    </visual>
    <collision>
      <origin xyz="0.4275 0.0 0.0" rpy="0.0 0.0 0.0"/>
      <geometry>
        <box size="0.855 0.038 2.0"/>
      </geometry>
    </collision>
  </link>
  <link name="iai_kitchen:arena:door_hinge">
    <inertial>
      <origin xyz="0.0 0.0 0.0" rpy="0.0 0.0 0.0"/>
      <mass value="1.0"/>
      <inertia ixx="0.1" ixy="0.0" ixz="0.0" iyy="0.1" iyz="0.0" izz="0.1"/>
    </inertial>
    <visual>
      <origin xyz="0.0 0.0 0.0" rpy="0.0 0.0 0.0"/>
      <geometry>
        <box size="0.05 0.05 2.0"/>
      </geometry>
      <material name="hinge_red"/>
    </visual>
    <collision>
      <origin xyz="0.0 0.0 0.0" rpy="0.0 0.0 0.0"/>
      <geometry>
        <box size="0.05 0.05 2.0"/>
      </geometry>
    </collision>
  </link>
  <link name="iai_kitchen:arena:door_handle_link">
    <inertial>
      <origin xyz="0.0 0.0 0.0" rpy="0.0 0.0 0.0"/>
      <mass value="1.0"/>
      <inertia ixx="0.1" ixy="0.0" ixz="0.0" iyy="0.1" iyz="0.0" izz="0.1"/>
    </inertial>
    <visual>
      <origin xyz="0.0 0.0 0.0" rpy="0.0 0.0 0.0"/>
      <geometry>
        <cylinder radius="0.013" length="0.1"/>
      </geometry>
    </visual>
    <collision>
      <origin xyz="0.0 0.0 0.0" rpy="0.0 0.0 0.0"/>
      <geometry>
        <cylinder radius="0.013" length="0.1"/>
      </geometry>
    </collision>
  </link>
  <gazebo reference="iai_kitchen:arena:door_handle_link">
    <turnGravityOff>true</turnGravityOff>
  </gazebo>
  <link name="iai_kitchen:arena:door_handle_outside">
    <inertial>
      <origin xyz="0.0 0.0 0.0" rpy="0.0 0.0 0.0"/>
      <mass value="1.0"/>
      <inertia ixx="0.1" ixy="0.0" ixz="0.0" iyy="0.1" iyz="0.0" izz="0.1"/>
    </inertial>
    <visual>
      <origin xyz="0.0 0.0 0.0" rpy="0.0 0.0 0.0"/>
      <geometry>
        <box size="0.015 0.15 0.01"/>
      </geometry>
      <material name="handle_blue"/>
    </visual>
    <collision>
      <origin xyz="0.0 0.0 0.0" rpy="0.0 0.0 0.0"/>
      <geometry>
        <box size="0.015 0.15 0.01"/>
      </geometry>
    </collision>
  </link>
  <gazebo reference="iai_kitchen:arena:door_handle_outside">
    <turnGravityOff>true</turnGravityOff>
  </gazebo>
  <link name="iai_kitchen:arena:door_handle_inside">
    <inertial>
      <origin xyz="0.0 0.0 0.0" rpy="0.0 0.0 0.0"/>
      <mass value="1.0"/>
      <inertia ixx="0.1" ixy="0.0" ixz="0.0" iyy="0.1" iyz="0.0" izz="0.1"/>
    </inertial>
    <visual>
      <origin xyz="0.0 0.0 0.0" rpy="0.0 0.0 0.0"/>
      <geometry>
        <box size="0.012 0.12 0.01"/>
      </geometry>
      <material name="handle_blue"/>
    </visual>
    <collision>
      <origin xyz="0.0 0.0 0.0" rpy="0.0 0.0 0.0"/>
      <geometry>
        <box size="0.015 0.15 0.01"/>
      </geometry>
    </collision>
  </link>
  <gazebo reference="iai_kitchen:arena:door_handle_inside">
    <turnGravityOff>true</turnGravityOff>
  </gazebo>
  <joint name="iai_kitchen:arena:door_origin_revolute_joint" type="revolute">
    <origin xyz="0.0 0.0 0.0" rpy="0.0 0.0 1.57"/>
    <axis xyz="0.0 0.0 1.0"/>
    <parent link="iai_kitchen:arena:door_hinge"/>
    <child link="iai_kitchen:arena:door_center"/>
    <limit effort="100.0" lower="-1.4" upper="0.0" velocity="10.0"/>
  </joint>
  <joint name="iai_kitchen:arena:door_hinge_joint" type="fixed">
    <origin xyz="1.961 0.08 1.04" rpy="0.0 0.0 0.0"/>
    <axis xyz="0.0 0.0 0.0"/>
    <parent link="urdf_offset"/>
    <child link="iai_kitchen:arena:door_hinge"/>
    <limit effort="1.0" lower="0.0" upper="1.5708" velocity="1.0"/>
  </joint>
  <joint name="iai_kitchen:arena:door_handle_joint" type="revolute">
    <origin xyz="0.82 0.0 0.02" rpy="1.5707963267948966 0.0 0.0"/>
    <axis xyz="0.0 0.0 1.0"/>
    <parent link="iai_kitchen:arena:door_center"/>
    <child link="iai_kitchen:arena:door_handle_link"/>
    <limit effort="1.0" lower="0.0" upper="0.6283185307179586" velocity="1.0"/>
  </joint>
  <joint name="iai_kitchen:arena:door_handle_inside_joint" type="fixed">
    <origin xyz="-0.069 0.0 0.06" rpy="0.0 0.0 1.5707963267948966"/>
    <parent link="iai_kitchen:arena:door_handle_link"/>
    <child link="iai_kitchen:arena:door_handle_inside"/>
  </joint>
  <joint name="iai_kitchen:arena:door_handle_outside_joint" type="fixed">
    <origin xyz="-0.075 0.0 -0.05" rpy="0.0 0.0 -1.5707963267948966"/>
    <parent link="iai_kitchen:arena:door_handle_link"/>
    <child link="iai_kitchen:arena:door_handle_outside"/>
  </joint>
  <link name="office:arena:door_center">
    <inertial>
      <origin xyz="0.0 0.0 0.0" rpy="0.0 0.0 0.0"/>
      <mass value="1.0"/>
      <inertia ixx="0.1" ixy="0.0" ixz="0.0" iyy="0.1" iyz="0.0" izz="0.1"/>
    </inertial>
    <visual>
      <origin xyz="0.41 0.0 0.0" rpy="0.0 0.0 0.0"/>
      <geometry>
        <box size="0.82 0.04 2.0"/>
      </geometry>
      <material name="door_green"/>
    </visual>
    <collision>
      <origin xyz="0.41 0.0 0.0" rpy="0.0 0.0 0.0"/>
      <geometry>
        <box size="0.82 0.04 2.0"/>
      </geometry>
    </collision>
  </link>
  <link name="office:arena:door_hinge">
    <inertial>
      <origin xyz="0.0 0.0 0.0" rpy="0.0 0.0 0.0"/>
      <mass value="1.0"/>
      <inertia ixx="0.1" ixy="0.0" ixz="0.0" iyy="0.1" iyz="0.0" izz="0.1"/>
    </inertial>
    <visual>
      <origin xyz="0.0 0.0 0.0" rpy="0.0 0.0 0.0"/>
      <geometry>
        <box size="0.05 0.05 2.0"/>
      </geometry>
      <material name="hinge_red"/>
    </visual>
    <collision>
      <origin xyz="0.0 0.0 0.0" rpy="0.0 0.0 0.0"/>
      <geometry>
        <box size="0.05 0.05 2.0"/>
      </geometry>
    </collision>
  </link>
  <link name="office:arena:door_handle_link">
    <inertial>
      <origin xyz="0.0 0.0 0.0" rpy="0.0 0.0 0.0"/>
      <mass value="1.0"/>
      <inertia ixx="0.1" ixy="0.0" ixz="0.0" iyy="0.1" iyz="0.0" izz="0.1"/>
    </inertial>
    <visual>
      <origin xyz="0.0 0.0 0.0" rpy="0.0 0.0 0.0"/>
      <geometry>
        <cylinder radius="0.013" length="0.1"/>
      </geometry>
    </visual>
    <collision>
      <origin xyz="0.0 0.0 0.0" rpy="0.0 0.0 0.0"/>
      <geometry>
        <cylinder radius="0.013" length="0.1"/>
      </geometry>
    </collision>
  </link>
  <gazebo reference="office:arena:door_handle_link">
    <turnGravityOff>true</turnGravityOff>
  </gazebo>
  <link name="office:arena:door_handle_outside">
    <inertial>
      <origin xyz="0.0 0.0 0.0" rpy="0.0 0.0 0.0"/>
      <mass value="1.0"/>
      <inertia ixx="0.1" ixy="0.0" ixz="0.0" iyy="0.1" iyz="0.0" izz="0.1"/>
    </inertial>
    <visual>
      <origin xyz="0.0 0.0 0.0" rpy="0.0 0.0 0.0"/>
      <geometry>
        <box size="0.015 0.15 0.01"/>
      </geometry>
      <material name="handle_blue"/>
    </visual>
    <collision>
      <origin xyz="0.0 0.0 0.0" rpy="0.0 0.0 0.0"/>
      <geometry>
        <box size="0.015 0.15 0.01"/>
      </geometry>
    </collision>
  </link>
  <gazebo reference="office:arena:door_handle_outside">
    <turnGravityOff>true</turnGravityOff>
  </gazebo>
  <link name="office:arena:door_handle_inside">
    <inertial>
      <origin xyz="0.0 0.0 0.0" rpy="0.0 0.0 0.0"/>
      <mass value="1.0"/>
      <inertia ixx="0.1" ixy="0.0" ixz="0.0" iyy="0.1" iyz="0.0" izz="0.1"/>
    </inertial>
    <visual>
      <origin xyz="0.0 0.0 0.0" rpy="0.0 0.0 0.0"/>
      <geometry>
        <box size="0.012 0.12 0.01"/>
      </geometry>
      <material name="handle_blue"/>
    </visual>
    <collision>
      <origin xyz="0.0 0.0 0.0" rpy="0.0 0.0 0.0"/>
      <geometry>
        <box size="0.015 0.15 0.01"/>
      </geometry>
    </collision>
  </link>
  <gazebo reference="office:arena:door_handle_inside">
    <turnGravityOff>true</turnGravityOff>
  </gazebo>
  <joint name="office:arena:door_origin_revolute_joint" type="revolute">
    <origin xyz="0.0 0.0 0.0" rpy="0.0 0.0 0.0"/>
    <axis xyz="0.0 0.0 1.0"/>
    <parent link="office:arena:door_hinge"/>
    <child link="office:arena:door_center"/>
    <limit effort="100.0" lower="-1.4" upper="0.0" velocity="10.0"/>
  </joint>
  <joint name="office:arena:door_hinge_joint" type="fixed">
    <origin xyz="4.24 6.68 1.04" rpy="0.0 0.0 0.0"/>
    <axis xyz="0.0 0.0 0.0"/>
    <parent link="urdf_offset"/>
    <child link="office:arena:door_hinge"/>
    <limit effort="1.0" lower="0.0" upper="1.5708" velocity="1.0"/>
  </joint>
  <joint name="office:arena:door_handle_joint" type="revolute">
    <origin xyz="0.77 0.0 0.02" rpy="1.5707963267948966 0.0 0.0"/>
    <axis xyz="0.0 0.0 1.0"/>
    <parent link="office:arena:door_center"/>
    <child link="office:arena:door_handle_link"/>
    <limit effort="1.0" lower="0.0" upper="0.6283185307179586" velocity="1.0"/>
  </joint>
  <joint name="office:arena:door_handle_inside_joint" type="fixed">
    <origin xyz="-0.069 0.0 0.06" rpy="0.0 0.0 1.5707963267948966"/>
    <parent link="office:arena:door_handle_link"/>
    <child link="office:arena:door_handle_inside"/>
  </joint>
  <joint name="office:arena:door_handle_outside_joint" type="fixed">
    <origin xyz="-0.075 0.0 -0.05" rpy="0.0 0.0 -1.5707963267948966"/>
    <parent link="office:arena:door_handle_link"/>
    <child link="office:arena:door_handle_outside"/>
  </joint>
  <link name="dishwasher_main">
    <inertial>
      <origin xyz="0.0 0.0 0.0" rpy="0.0 0.0 0.0"/>
      <mass value="1.0"/>
      <inertia ixx="1.0" ixy="0.0" ixz="0.0" iyy="1.0" iyz="0.0" izz="1.0"/>
    </inertial>
  </link>
  <joint name="dishwasher_main" type="fixed">
    <origin xyz="10.5 4.77 0.0" rpy="0.0 0.0 3.19"/>
    <parent link="urdf_offset"/>
    <child link="dishwasher_main"/>
  </joint>
  <link name="sink_area_dish_washer_main">
    <inertial>
      <origin xyz="0.0 0.0 0.0" rpy="0.0 0.0 0.0"/>
      <mass value="1.0"/>
      <inertia ixx="1.0" ixy="0.0" ixz="0.0" iyy="1.0" iyz="0.0" izz="1.0"/>
    </inertial>
    <visual>
      <origin xyz="0.0 0.0 0.0" rpy="0.0 0.0 0.0"/>
      <geometry>
        <mesh filename="package://iai_kitchen/meshes/misc/DishWasher.obj"/>
      </geometry>
    </visual>
    <collision>
      <origin xyz="0.0 0.0 0.0" rpy="0.0 0.0 0.0"/>
      <geometry>
        <mesh filename="package://iai_kitchen/meshes/misc/DishWasher.obj"/>
      </geometry>
    </collision>
  </link>
  <link name="sink_area_dish_washer_door">
    <inertial>
      <origin xyz="0.0 0.0 0.0" rpy="0.0 0.0 0.0"/>
      <mass value="1.0"/>
      <inertia ixx="1.0" ixy="0.0" ixz="0.0" iyy="1.0" iyz="0.0" izz="1.0"/>
    </inertial>
    <visual>
      <origin xyz="0.0 0.0 0.0" rpy="1.57079632679 0.0 0.0"/>
      <geometry>
        <mesh filename="package://iai_kitchen/meshes/misc/DishWasherDoor.obj"/>
      </geometry>
    </visual>
    <collision>
      <origin xyz="0.0 0.0 0.0" rpy="1.57079632679 0.0 0.0"/>
      <geometry>
        <mesh filename="package://iai_kitchen/meshes/misc/DishWasherDoor.obj"/>
      </geometry>
    </collision>
  </link>
  <gazebo reference="sink_area_dish_washer_door">
    <turnGravityOff>true</turnGravityOff>
  </gazebo>
  <link name="sink_area_dish_washer_door_handle">
    <inertial>
      <origin xyz="0.1 0.0 0.0" rpy="0.0 0.0 0.0"/>
      <mass value="1.0"/>
      <inertia ixx="1.0" ixy="0.0" ixz="0.0" iyy="1.0" iyz="0.0" izz="1.0"/>
    </inertial>
    <visual>
      <origin xyz="0.01 0.0 0.0" rpy="0.0 0.0 0.0"/>
      <geometry>
        <mesh filename="package://iai_kitchen/meshes/handles/Handle60.obj"/>
      </geometry>
    </visual>
    <collision>
      <origin xyz="0.01 0.0 0.0" rpy="0.0 0.0 0.0"/>
      <geometry>
        <mesh filename="package://iai_kitchen/meshes/handles/Handle60.obj"/>
      </geometry>
    </collision>
  </link>
  <gazebo reference="sink_area_dish_washer_door_handle">
    <turnGravityOff>true</turnGravityOff>
  </gazebo>
  <link name="dishwasher_tab"/>
  <link name="dishwasher_table:d_table:d_table_origin"/>
  <link name="dishwasher_table:d_table:table_front_edge_center"/>
  <link name="dishwasher_table:d_table:table_center">
    <visual>
      <origin xyz="0.0 0.0 0.0" rpy="0.0 0.0 0.0"/>
      <geometry>
        <box size="0.593 0.6 0.02"/>
      </geometry>
      <material name="dishwasher_robocup_table_color"/>
    </visual>
    <collision>
      <origin xyz="0.0 0.0 0.0" rpy="0.0 0.0 0.0"/>
      <geometry>
        <box size="0.593 0.6 0.02"/>
      </geometry>
    </collision>
  </link>
  <joint name="dishwasher_tab_joint" type="fixed">
    <origin xyz="-0.1 0.1 0.15" rpy="0.0 0.0 0.0"/>
    <parent link="sink_area_dish_washer_door_handle"/>
    <child link="dishwasher_tab"/>
  </joint>
  <joint name="sink_area_dish_washer_main_joint" type="fixed">
    <origin xyz="0.0 0.0 0.44" rpy="0.0 0.0 0.0"/>
    <axis xyz="1.0 0.0 0.0"/>
    <parent link="dishwasher_main"/>
    <child link="sink_area_dish_washer_main"/>
  </joint>
  <joint name="sink_area_dish_washer_door_joint" type="revolute">
    <origin xyz="0.27 0.0 -0.325" rpy="-1.57079632679 0.03 0.0"/>
    <axis xyz="0.0 0.0 1.0"/>
    <parent link="sink_area_dish_washer_main"/>
    <child link="sink_area_dish_washer_door"/>
    <limit effort="300.0" lower="0.0" upper="1.57079632679" velocity="10.0"/>
  </joint>
  <joint name="sink_area_dish_washer_door_handle_joint" type="fixed">
    <origin xyz="0.0625 -0.6625 0.0" rpy="-1.57079632679 0.0 0.0"/>
    <parent link="sink_area_dish_washer_door"/>
    <child link="sink_area_dish_washer_door_handle"/>
  </joint>
  <joint name="dish_washer_table_main_joint" type="fixed">
    <origin xyz="0.0 0.0 0.3971" rpy="0.0 0.0 3.141592653589793"/>
    <parent link="sink_area_dish_washer_main"/>
    <child link="dishwasher_table:d_table:d_table_origin"/>
  </joint>
  <joint name="dish_washer_table_center_joint" type="fixed">
    <origin xyz="-0.3 0.0 0.0" rpy="0.0 0.0 0.0"/>
    <parent link="dishwasher_table:d_table:d_table_origin"/>
    <child link="dishwasher_table:d_table:table_front_edge_center"/>
  </joint>
  <joint name="dish_washer_table_edge_joint" type="fixed">
    <origin xyz="0.0 0.0 0.0" rpy="0.0 0.0 0.0"/>
    <parent link="dishwasher_table:d_table:d_table_origin"/>
    <child link="dishwasher_table:d_table:table_center"/>
  </joint>
  <link name="chair:desk_chair:chair_center">
    <visual>
      <origin xyz="0.0 0.0 0.0" rpy="0.0 0.0 0.0"/>
      <geometry>
        <box size="0.42 0.435 0.47"/>
      </geometry>
      <material name="chair_color"/>
    </visual>
    <collision>
      <origin xyz="0.0 0.0 0.0" rpy="0.0 0.0 0.0"/>
      <geometry>
        <box size="0.42 0.435 0.47"/>
      </geometry>
    </collision>
  </link>
  <link name="chair:desk_chair:chair_backrest">
    <visual>
      <origin xyz="0.0 0.0 0.0" rpy="0.0 0.0 0.0"/>
      <geometry>
        <box size="0.42 0.05 0.47"/>
      </geometry>
      <material name="chair_color"/>
    </visual>
    <collision>
      <origin xyz="0.0 0.0 0.0" rpy="0.0 0.0 0.0"/>
      <geometry>
        <box size="0.42 0.05 0.47"/>
      </geometry>
    </collision>
  </link>
  <link name="chair:desk_chair:chair_origin"/>
  <link name="chair:desk_chair:chair_front_edge_center"/>
  <joint name="chair:desk_chair:chair_origin_joint" type="fixed">
    <origin xyz="3.38 3.07 0.0" rpy="0.0 0.0 3.15"/>
    <parent link="urdf_offset"/>
    <child link="chair:desk_chair:chair_origin"/>
  </joint>
  <joint name="chair:desk_chair:center_joint" type="fixed">
    <origin xyz="0.0 0.0 0.235" rpy="0.0 0.0 0.0"/>
    <parent link="chair:desk_chair:chair_origin"/>
    <child link="chair:desk_chair:chair_center"/>
  </joint>
  <joint name="chair:desk_chair:chair_front_edge_center_joint" type="fixed">
    <origin xyz="0.0 0.2175 0.47" rpy="0.0 0.0 0.0"/>
    <parent link="chair:desk_chair:chair_origin"/>
    <child link="chair:desk_chair:chair_front_edge_center"/>
  </joint>
  <joint name="chair:desk_chair:chair_backrest_joint" type="fixed">
    <origin xyz="0.0 -0.1875 0.235" rpy="0.0 0.0 0.0"/>
    <parent link="chair:desk_chair:chair_center"/>
    <child link="chair:desk_chair:chair_backrest"/>
  </joint>
  <link name="chair:lounge_chair:chair_center">
    <visual>
      <origin xyz="0.0 0.0 0.0" rpy="0.0 0.0 0.0"/>
      <geometry>
        <box size="0.71 0.825 0.415"/>
      </geometry>
      <material name="chair_color"/>
    </visual>
    <collision>
      <origin xyz="0.0 0.0 0.0" rpy="0.0 0.0 0.0"/>
      <geometry>
        <box size="0.71 0.825 0.415"/>
      </geometry>
    </collision>
  </link>
  <link name="chair:lounge_chair:chair_backrest">
    <visual>
      <origin xyz="0.0 0.0 0.0" rpy="0.0 0.0 0.0"/>
      <geometry>
        <box size="0.71 0.05 0.415"/>
      </geometry>
      <material name="chair_color"/>
    </visual>
    <collision>
      <origin xyz="0.0 0.0 0.0" rpy="0.0 0.0 0.0"/>
      <geometry>
        <box size="0.71 0.05 0.415"/>
      </geometry>
    </collision>
  </link>
  <link name="chair:lounge_chair:chair_origin"/>
  <link name="chair:lounge_chair:chair_front_edge_center"/>
  <joint name="chair:lounge_chair:chair_origin_joint" type="fixed">
    <origin xyz="9.3 -1.54 0.0" rpy="0.0 0.0 -0.1"/>
    <parent link="urdf_offset"/>
    <child link="chair:lounge_chair:chair_origin"/>
  </joint>
  <joint name="chair:lounge_chair:center_joint" type="fixed">
    <origin xyz="0.0 0.0 0.2075" rpy="0.0 0.0 0.0"/>
    <parent link="chair:lounge_chair:chair_origin"/>
    <child link="chair:lounge_chair:chair_center"/>
  </joint>
  <joint name="chair:lounge_chair:chair_front_edge_center_joint" type="fixed">
    <origin xyz="0.0 0.4125 0.415" rpy="0.0 0.0 0.0"/>
    <parent link="chair:lounge_chair:chair_origin"/>
    <child link="chair:lounge_chair:chair_front_edge_center"/>
  </joint>
  <joint name="chair:lounge_chair:chair_backrest_joint" type="fixed">
    <origin xyz="0.0 -0.38249999999999995 0.2075" rpy="0.0 0.0 0.0"/>
    <parent link="chair:lounge_chair:chair_center"/>
    <child link="chair:lounge_chair:chair_backrest"/>
  </joint>
  <link name="shelf_hohc:kitchen_cabinet:shelf_origin"/>
  <link name="shelf_hohc:kitchen_cabinet:shelf_center"/>
  <link name="shelf_hohc:kitchen_cabinet:shelf_base_center"/>
  <joint name="shelf_hohc:kitchen_cabinet:shelf_origin_joint" type="fixed">
    <origin xyz="5.42 6.2 0.0" rpy="0.0 0.0 3.23"/>
    <parent link="urdf_offset"/>
    <child link="shelf_hohc:kitchen_cabinet:shelf_origin"/>
  </joint>
  <joint name="shelf_hohc:kitchen_cabinet:shelf_center_joint" type="fixed">
    <origin xyz="0.15 0.4 1.01" rpy="0.0 0.0 0.0"/>
    <parent link="shelf_hohc:kitchen_cabinet:shelf_origin"/>
    <child link="shelf_hohc:kitchen_cabinet:shelf_center"/>
  </joint>
  <joint name="shelf_hohc:kitchen_cabinet:shelf_base_center_joint" type="fixed">
    <origin xyz="0.15 0.4 0.0" rpy="0.0 0.0 0.0"/>
    <parent link="shelf_hohc:kitchen_cabinet:shelf_origin"/>
    <child link="shelf_hohc:kitchen_cabinet:shelf_base_center"/>
  </joint>
  <link name="shelf_hohc:kitchen_cabinet:shelf_back">
    <inertial>
      <origin xyz="0.0 0.0 0.0" rpy="0.0 0.0 0.0"/>
      <mass value="1.0"/>
      <inertia ixx="0.1" ixy="0.0" ixz="0.0" iyy="0.1" iyz="0.0" izz="0.1"/>
    </inertial>
    <visual>
      <origin xyz="0.0 0.0 0.0" rpy="0.0 0.0 0.0"/>
      <geometry>
        <box size="0.02 0.8 2.02"/>
      </geometry>
      <material name="shelf_blue"/>
    </visual>
    <collision>
      <origin xyz="0.0 0.0 0.0" rpy="0.0 0.0 0.0"/>
      <geometry>
        <box size="0.02 0.8 2.02"/>
      </geometry>
    </collision>
  </link>
  <joint name="shelf_hohc:kitchen_cabinet:shelf_back:joint" type="fixed">
    <origin xyz="0.3 0.4 1.01" rpy="0.0 0.0 0.0"/>
    <parent link="shelf_hohc:kitchen_cabinet:shelf_origin"/>
    <child link="shelf_hohc:kitchen_cabinet:shelf_back"/>
  </joint>
  <link name="shelf_hohc:kitchen_cabinet:shelf_right_side">
    <inertial>
      <origin xyz="0.0 0.0 0.0" rpy="0.0 0.0 0.0"/>
      <mass value="1.0"/>
      <inertia ixx="0.1" ixy="0.0" ixz="0.0" iyy="0.1" iyz="0.0" izz="0.1"/>
    </inertial>
    <visual>
      <origin xyz="0.0 0.0 0.0" rpy="0.0 0.0 0.0"/>
      <geometry>
        <box size="0.3 0.02 2.02"/>
      </geometry>
      <material name="shelf_blue"/>
    </visual>
    <collision>
      <origin xyz="0.0 0.0 0.0" rpy="0.0 0.0 0.0"/>
      <geometry>
        <box size="0.3 0.02 2.02"/>
      </geometry>
    </collision>
  </link>
  <joint name="shelf_hohc:kitchen_cabinet:shelf_right_side:joint" type="fixed">
    <origin xyz="0.15 0.01 1.01" rpy="0.0 0.0 0.0"/>
    <parent link="shelf_hohc:kitchen_cabinet:shelf_origin"/>
    <child link="shelf_hohc:kitchen_cabinet:shelf_right_side"/>
  </joint>
  <link name="shelf_hohc:kitchen_cabinet:shelf_left_side">
    <inertial>
      <origin xyz="0.0 0.0 0.0" rpy="0.0 0.0 0.0"/>
      <mass value="1.0"/>
      <inertia ixx="0.1" ixy="0.0" ixz="0.0" iyy="0.1" iyz="0.0" izz="0.1"/>
    </inertial>
    <visual>
      <origin xyz="0.0 0.0 0.0" rpy="0.0 0.0 0.0"/>
      <geometry>
        <box size="0.3 0.02 2.02"/>
      </geometry>
      <material name="shelf_blue"/>
    </visual>
    <collision>
      <origin xyz="0.0 0.0 0.0" rpy="0.0 0.0 0.0"/>
      <geometry>
        <box size="0.3 0.02 2.02"/>
      </geometry>
    </collision>
  </link>
  <joint name="shelf_hohc:kitchen_cabinet:shelf_left_side:joint" type="fixed">
    <origin xyz="0.15 0.79 1.01" rpy="0.0 0.0 0.0"/>
    <parent link="shelf_hohc:kitchen_cabinet:shelf_origin"/>
    <child link="shelf_hohc:kitchen_cabinet:shelf_left_side"/>
  </joint>
  <link name="shelf_hohc:kitchen_cabinet:shelf_floor_0">
    <inertial>
      <origin xyz="0.0 0.0 0.0" rpy="0.0 0.0 0.0"/>
      <mass value="1.0"/>
      <inertia ixx="0.1" ixy="0.0" ixz="0.0" iyy="0.1" iyz="0.0" izz="0.1"/>
    </inertial>
    <visual>
      <origin xyz="0.0 0.0 -0.02" rpy="0.0 0.0 0.0"/>
      <geometry>
        <box size="0.3 0.8 0.04"/>
      </geometry>
      <material name="shelf_blue"/>
    </visual>
    <collision>
      <origin xyz="0.0 0.0 -0.02" rpy="0.0 0.0 0.0"/>
      <geometry>
        <box size="0.3 0.8 0.04"/>
      </geometry>
    </collision>
  </link>
  <joint name="shelf_hohc:kitchen_cabinet:shelf_floor_0:joint" type="fixed">
    <origin xyz="0.0 0.0 0.09" rpy="0.0 0.0 0.0"/>
    <parent link="shelf_hohc:kitchen_cabinet:shelf_base_center"/>
    <child link="shelf_hohc:kitchen_cabinet:shelf_floor_0"/>
  </joint>
  <link name="shelf_hohc:kitchen_cabinet:shelf_floor_1">
    <inertial>
      <origin xyz="0.0 0.0 0.0" rpy="0.0 0.0 0.0"/>
      <mass value="1.0"/>
      <inertia ixx="0.1" ixy="0.0" ixz="0.0" iyy="0.1" iyz="0.0" izz="0.1"/>
    </inertial>
    <visual>
      <origin xyz="0.0 0.0 -0.02" rpy="0.0 0.0 0.0"/>
      <geometry>
        <box size="0.3 0.8 0.04"/>
      </geometry>
      <material name="shelf_blue"/>
    </visual>
    <collision>
      <origin xyz="0.0 0.0 -0.02" rpy="0.0 0.0 0.0"/>
      <geometry>
        <box size="0.3 0.8 0.04"/>
      </geometry>
    </collision>
  </link>
  <joint name="shelf_hohc:kitchen_cabinet:shelf_floor_1:joint" type="fixed">
    <origin xyz="0.0 0.0 0.4" rpy="0.0 0.0 0.0"/>
    <parent link="shelf_hohc:kitchen_cabinet:shelf_base_center"/>
    <child link="shelf_hohc:kitchen_cabinet:shelf_floor_1"/>
  </joint>
  <link name="shelf_hohc:kitchen_cabinet:shelf_floor_2">
    <inertial>
      <origin xyz="0.0 0.0 0.0" rpy="0.0 0.0 0.0"/>
      <mass value="1.0"/>
      <inertia ixx="0.1" ixy="0.0" ixz="0.0" iyy="0.1" iyz="0.0" izz="0.1"/>
    </inertial>
    <visual>
      <origin xyz="0.0 0.0 -0.02" rpy="0.0 0.0 0.0"/>
      <geometry>
        <box size="0.3 0.8 0.04"/>
      </geometry>
      <material name="shelf_blue"/>
    </visual>
    <collision>
      <origin xyz="0.0 0.0 -0.02" rpy="0.0 0.0 0.0"/>
      <geometry>
        <box size="0.3 0.8 0.04"/>
      </geometry>
    </collision>
  </link>
  <joint name="shelf_hohc:kitchen_cabinet:shelf_floor_2:joint" type="fixed">
    <origin xyz="0.0 0.0 0.72" rpy="0.0 0.0 0.0"/>
    <parent link="shelf_hohc:kitchen_cabinet:shelf_base_center"/>
    <child link="shelf_hohc:kitchen_cabinet:shelf_floor_2"/>
  </joint>
  <link name="shelf_hohc:kitchen_cabinet:shelf_floor_3">
    <inertial>
      <origin xyz="0.0 0.0 0.0" rpy="0.0 0.0 0.0"/>
      <mass value="1.0"/>
      <inertia ixx="0.1" ixy="0.0" ixz="0.0" iyy="0.1" iyz="0.0" izz="0.1"/>
    </inertial>
    <visual>
      <origin xyz="0.0 0.0 -0.02" rpy="0.0 0.0 0.0"/>
      <geometry>
        <box size="0.3 0.8 0.04"/>
      </geometry>
      <material name="shelf_blue"/>
    </visual>
    <collision>
      <origin xyz="0.0 0.0 -0.02" rpy="0.0 0.0 0.0"/>
      <geometry>
        <box size="0.3 0.8 0.04"/>
      </geometry>
    </collision>
  </link>
  <joint name="shelf_hohc:kitchen_cabinet:shelf_floor_3:joint" type="fixed">
    <origin xyz="0.0 0.0 1.045" rpy="0.0 0.0 0.0"/>
    <parent link="shelf_hohc:kitchen_cabinet:shelf_base_center"/>
    <child link="shelf_hohc:kitchen_cabinet:shelf_floor_3"/>
  </joint>
  <link name="shelf_hohc:kitchen_cabinet:shelf_floor_4">
    <inertial>
      <origin xyz="0.0 0.0 0.0" rpy="0.0 0.0 0.0"/>
      <mass value="1.0"/>
      <inertia ixx="0.1" ixy="0.0" ixz="0.0" iyy="0.1" iyz="0.0" izz="0.1"/>
    </inertial>
    <visual>
      <origin xyz="0.0 0.0 -0.02" rpy="0.0 0.0 0.0"/>
      <geometry>
        <box size="0.3 0.8 0.04"/>
      </geometry>
      <material name="shelf_blue"/>
    </visual>
    <collision>
      <origin xyz="0.0 0.0 -0.02" rpy="0.0 0.0 0.0"/>
      <geometry>
        <box size="0.3 0.8 0.04"/>
      </geometry>
    </collision>
  </link>
  <joint name="shelf_hohc:kitchen_cabinet:shelf_floor_4:joint" type="fixed">
    <origin xyz="0.0 0.0 1.4" rpy="0.0 0.0 0.0"/>
    <parent link="shelf_hohc:kitchen_cabinet:shelf_base_center"/>
    <child link="shelf_hohc:kitchen_cabinet:shelf_floor_4"/>
  </joint>
  <link name="shelf_hohc:kitchen_cabinet:shelf_floor_5">
    <inertial>
      <origin xyz="0.0 0.0 0.0" rpy="0.0 0.0 0.0"/>
      <mass value="1.0"/>
      <inertia ixx="0.1" ixy="0.0" ixz="0.0" iyy="0.1" iyz="0.0" izz="0.1"/>
    </inertial>
    <visual>
      <origin xyz="0.0 0.0 -0.02" rpy="0.0 0.0 0.0"/>
      <geometry>
        <box size="0.3 0.8 0.04"/>
      </geometry>
      <material name="shelf_blue"/>
    </visual>
    <collision>
      <origin xyz="0.0 0.0 -0.02" rpy="0.0 0.0 0.0"/>
      <geometry>
        <box size="0.3 0.8 0.04"/>
      </geometry>
    </collision>
  </link>
  <joint name="shelf_hohc:kitchen_cabinet:shelf_floor_5:joint" type="fixed">
    <origin xyz="0.0 0.0 1.685" rpy="0.0 0.0 0.0"/>
    <parent link="shelf_hohc:kitchen_cabinet:shelf_base_center"/>
    <child link="shelf_hohc:kitchen_cabinet:shelf_floor_5"/>
  </joint>
  <link name="shelf_hohc:kitchen_cabinet:shelf_floor_6">
    <inertial>
      <origin xyz="0.0 0.0 0.0" rpy="0.0 0.0 0.0"/>
      <mass value="1.0"/>
      <inertia ixx="0.1" ixy="0.0" ixz="0.0" iyy="0.1" iyz="0.0" izz="0.1"/>
    </inertial>
    <visual>
      <origin xyz="0.0 0.0 -0.02" rpy="0.0 0.0 0.0"/>
      <geometry>
        <box size="0.3 0.8 0.04"/>
      </geometry>
      <material name="shelf_blue"/>
    </visual>
    <collision>
      <origin xyz="0.0 0.0 -0.02" rpy="0.0 0.0 0.0"/>
      <geometry>
        <box size="0.3 0.8 0.04"/>
      </geometry>
    </collision>
  </link>
  <joint name="shelf_hohc:kitchen_cabinet:shelf_floor_6:joint" type="fixed">
    <origin xyz="0.0 0.0 2.015" rpy="0.0 0.0 0.0"/>
    <parent link="shelf_hohc:kitchen_cabinet:shelf_base_center"/>
    <child link="shelf_hohc:kitchen_cabinet:shelf_floor_6"/>
  </joint>
  <link name="shelf_hohc:kitchen_cabinet:shelf_door_right">
    <inertial>
      <origin xyz="0.0 0.0 0.0" rpy="0.0 0.0 0.0"/>
      <mass value="1.0"/>
      <inertia ixx="0.1" ixy="0.0" ixz="0.0" iyy="0.1" iyz="0.0" izz="0.1"/>
    </inertial>
    <visual>
      <origin xyz="0.0 0.18 0.0" rpy="0.0 0.0 0.0"/>
      <geometry>
        <box size="0.02 0.38 0.97"/>
      </geometry>
      <material name="shelf_door_green"/>
    </visual>
    <collision>
      <origin xyz="0.0 0.18 0.0" rpy="0.0 0.0 0.0"/>
      <geometry>
        <box size="0.02 0.38 0.97"/>
      </geometry>
    </collision>
  </link>
  <link name="shelf_hohc:kitchen_cabinet:shelf_door_right:handle">
    <inertial>
      <origin xyz="0.0 0.0 0.0" rpy="0.0 0.0 0.0"/>
      <mass value="1.0"/>
      <inertia ixx="0.1" ixy="0.0" ixz="0.0" iyy="0.1" iyz="0.0" izz="0.1"/>
    </inertial>
    <visual>
      <origin xyz="0.0 0.0 0.0" rpy="0.0 0.0 0.0"/>
      <geometry>
        <box size="0.035 0.005 0.135"/>
      </geometry>
      <material name="shelf_hohc_handle_red"/>
    </visual>
    <collision>
      <origin xyz="0.0 0.0 0.0" rpy="0.0 0.0 0.0"/>
      <geometry>
        <box size="0.035 0.005 0.135"/>
      </geometry>
    </collision>
  </link>
  <joint name="shelf_hohc:kitchen_cabinet:shelf_door_right:handle_joint" type="fixed">
    <origin xyz="-0.037500000000000006 0.3525 0.15249999999999997" rpy="0.0 0.0 0.0"/>
    <axis xyz="0.0 0.0 1.0"/>
    <parent link="shelf_hohc:kitchen_cabinet:shelf_door_right"/>
    <child link="shelf_hohc:kitchen_cabinet:shelf_door_right:handle"/>
  </joint>
  <joint name="shelf_hohc:kitchen_cabinet:shelf_door_right:joint" type="revolute">
    <origin xyz="-0.13999999999999999 0.02 -0.48" rpy="0.0 0.0 0.0"/>
    <axis xyz="0.0 0.0 1.0"/>
    <parent link="shelf_hohc:kitchen_cabinet:shelf_right_side"/>
    <child link="shelf_hohc:kitchen_cabinet:shelf_door_right"/>
    <limit effort="30.0" lower="0.0" upper="1.7" velocity="1.0"/>
  </joint>
  <link name="shelf_hohc:kitchen_cabinet:shelf_door_left">
    <inertial>
      <origin xyz="0.0 0.0 0.0" rpy="0.0 0.0 0.0"/>
      <mass value="1.0"/>
      <inertia ixx="0.1" ixy="0.0" ixz="0.0" iyy="0.1" iyz="0.0" izz="0.1"/>
    </inertial>
    <visual>
      <origin xyz="0.0 -0.18 0.0" rpy="0.0 0.0 0.0"/>
      <geometry>
        <box size="0.02 0.38 0.97"/>
      </geometry>
      <material name="shelf_door_green"/>
    </visual>
    <collision>
      <origin xyz="0.0 -0.18 0.0" rpy="0.0 0.0 0.0"/>
      <geometry>
        <box size="0.02 0.38 0.97"/>
      </geometry>
    </collision>
  </link>
  <link name="shelf_hohc:kitchen_cabinet:shelf_door_left:handle">
    <inertial>
      <origin xyz="0.0 0.0 0.0" rpy="0.0 0.0 0.0"/>
      <mass value="1.0"/>
      <inertia ixx="0.1" ixy="0.0" ixz="0.0" iyy="0.1" iyz="0.0" izz="0.1"/>
    </inertial>
    <visual>
      <origin xyz="0.0 0.0 0.0" rpy="0.0 0.0 0.0"/>
      <geometry>
        <box size="0.035 0.005 0.135"/>
      </geometry>
      <material name="shelf_hohc_handle_red"/>
    </visual>
    <collision>
      <origin xyz="0.0 0.0 0.0" rpy="0.0 0.0 0.0"/>
      <geometry>
        <box size="0.035 0.005 0.135"/>
      </geometry>
    </collision>
  </link>
  <joint name="shelf_hohc:kitchen_cabinet:shelf_door_left:handle_joint" type="fixed">
    <origin xyz="-0.037500000000000006 -0.3525 0.15249999999999997" rpy="0.0 0.0 0.0"/>
    <axis xyz="0.0 0.0 1.0"/>
    <parent link="shelf_hohc:kitchen_cabinet:shelf_door_left"/>
    <child link="shelf_hohc:kitchen_cabinet:shelf_door_left:handle"/>
  </joint>
  <joint name="shelf_hohc:kitchen_cabinet:shelf_door_left:joint" type="revolute">
    <origin xyz="-0.13999999999999999 -0.02 -0.48" rpy="0.0 0.0 0.0"/>
    <axis xyz="0.0 0.0 1.0"/>
    <parent link="shelf_hohc:kitchen_cabinet:shelf_left_side"/>
    <child link="shelf_hohc:kitchen_cabinet:shelf_door_left"/>
    <limit effort="30.0" lower="-1.7" upper="0.0" velocity="1.0"/>
  </joint>
  <link name="trashcan:trashcan:trashcan_center">
    <inertial>
      <origin xyz="0.0 0.0 0.0" rpy="0.0 0.0 0.0"/>
      <mass value="1.0"/>
      <inertia ixx="0.1" ixy="0.0" ixz="0.0" iyy="0.1" iyz="0.0" izz="0.1"/>
    </inertial>
    <visual>
      <origin xyz="0.0 0.0 -0.245" rpy="0.0 0.0 0.0"/>
      <geometry>
        <cylinder radius="0.19" length="0.49"/>
      </geometry>
      <material name="trashcan_color"/>
    </visual>
    <collision>
      <origin xyz="0.0 0.0 -0.245" rpy="0.0 0.0 0.0"/>
      <geometry>
        <cylinder radius="0.19" length="0.49"/>
      </geometry>
    </collision>
  </link>
  <link name="trashcan:trashcan:trashcan_origin"/>
  <link name="trashcan:trashcan:trashcan_front_edge_center"/>
  <joint name="trashcan:trashcan:trashcan_origin_joint" type="fixed">
    <origin xyz="5.86 2.03 0.0" rpy="0.0 0.0 3.2"/>
    <parent link="urdf_offset"/>
    <child link="trashcan:trashcan:trashcan_origin"/>
  </joint>
  <joint name="trashcan:trashcan:center_joint" type="fixed">
    <origin xyz="0.19 0.0 0.49" rpy="0.0 0.0 0.0"/>
    <parent link="trashcan:trashcan:trashcan_origin"/>
    <child link="trashcan:trashcan:trashcan_center"/>
  </joint>
  <joint name="trashcan:trashcan:trashcan_front_edge_center_joint" type="fixed">
    <origin xyz="0.0 0.0 0.49" rpy="0.0 0.0 0.0"/>
    <parent link="trashcan:trashcan:trashcan_origin"/>
    <child link="trashcan:trashcan:trashcan_front_edge_center"/>
  </joint>
  <link name="coathanger:coathanger:coathanger_center">
    <inertial>
      <origin xyz="0.0 0.0 0.0" rpy="0.0 0.0 0.0"/>
      <mass value="1.0"/>
      <inertia ixx="0.1" ixy="0.0" ixz="0.0" iyy="0.1" iyz="0.0" izz="0.1"/>
    </inertial>
    <visual>
      <origin xyz="0.0 0.0 -0.9" rpy="0.0 0.0 0.0"/>
      <geometry>
        <box size="0.5 0.5 1.8"/>
      </geometry>
      <material name="coathanger_color"/>
    </visual>
    <collision>
      <origin xyz="0.0 0.0 -0.9" rpy="0.0 0.0 0.0"/>
      <geometry>
        <box size="0.5 0.5 1.8"/>
      </geometry>
    </collision>
  </link>
  <link name="coathanger:coathanger:coathanger_origin"/>
  <link name="coathanger:coathanger:coathanger_front_edge_center"/>
  <joint name="coathanger:coathanger:coathanger_origin_joint" type="fixed">
    <origin xyz="3.9 1.55 0.0" rpy="0.0 0.0 3.17"/>
    <parent link="urdf_offset"/>
    <child link="coathanger:coathanger:coathanger_origin"/>
  </joint>
  <joint name="coathanger:coathanger:center_joint" type="fixed">
    <origin xyz="0.25 0.25 1.8" rpy="0.0 0.0 0.0"/>
    <parent link="coathanger:coathanger:coathanger_origin"/>
    <child link="coathanger:coathanger:coathanger_center"/>
  </joint>
  <joint name="coathanger:coathanger:coathanger_front_edge_center_joint" type="fixed">
    <origin xyz="0.0 0.25 1.8" rpy="0.0 0.0 0.0"/>
    <parent link="coathanger:coathanger:coathanger_origin"/>
    <child link="coathanger:coathanger:coathanger_front_edge_center"/>
  </joint>
  <link name="lamp:lamp:lamp_center">
    <inertial>
      <origin xyz="0.0 0.0 0.0" rpy="0.0 0.0 0.0"/>
      <mass value="1.0"/>
      <inertia ixx="0.1" ixy="0.0" ixz="0.0" iyy="0.1" iyz="0.0" izz="0.1"/>
    </inertial>
    <visual>
      <origin xyz="0.0 0.0 -0.9" rpy="0.0 0.0 0.0"/>
      <geometry>
        <cylinder radius="0.09" length="1.8"/>
      </geometry>
      <material name="lamp_color"/>
    </visual>
    <collision>
      <origin xyz="0.0 0.0 -0.9" rpy="0.0 0.0 0.0"/>
      <geometry>
        <cylinder radius="0.09" length="1.8"/>
      </geometry>
    </collision>
  </link>
  <link name="lamp:lamp:lamp_origin"/>
  <link name="lamp:lamp:lamp_front_edge_center"/>
  <joint name="lamp:lamp:lamp_origin_joint" type="fixed">
    <origin xyz="10.7 -1.6 0.0" rpy="0.0 0.0 0.0"/>
    <parent link="urdf_offset"/>
    <child link="lamp:lamp:lamp_origin"/>
  </joint>
  <joint name="lamp:lamp:center_joint" type="fixed">
    <origin xyz="0.09 0.0 1.8" rpy="0.0 0.0 0.0"/>
    <parent link="lamp:lamp:lamp_origin"/>
    <child link="lamp:lamp:lamp_center"/>
  </joint>
  <joint name="lamp:lamp:lamp_front_edge_center_joint" type="fixed">
    <origin xyz="0.0 0.0 1.8" rpy="0.0 0.0 0.0"/>
    <parent link="lamp:lamp:lamp_origin"/>
    <child link="lamp:lamp:lamp_front_edge_center"/>
  </joint>
  <link name="urdf_main"/>
  <joint name="map_urdf_joint" type="fixed">
    <origin xyz="0.0 0.0 0.0" rpy="0.0 0.0 0.0"/>
    <parent link="urdf_main"/>
    <child link="urdf_offset"/>
  </joint>
  <link name="urdf_offset"/>
</robot>
